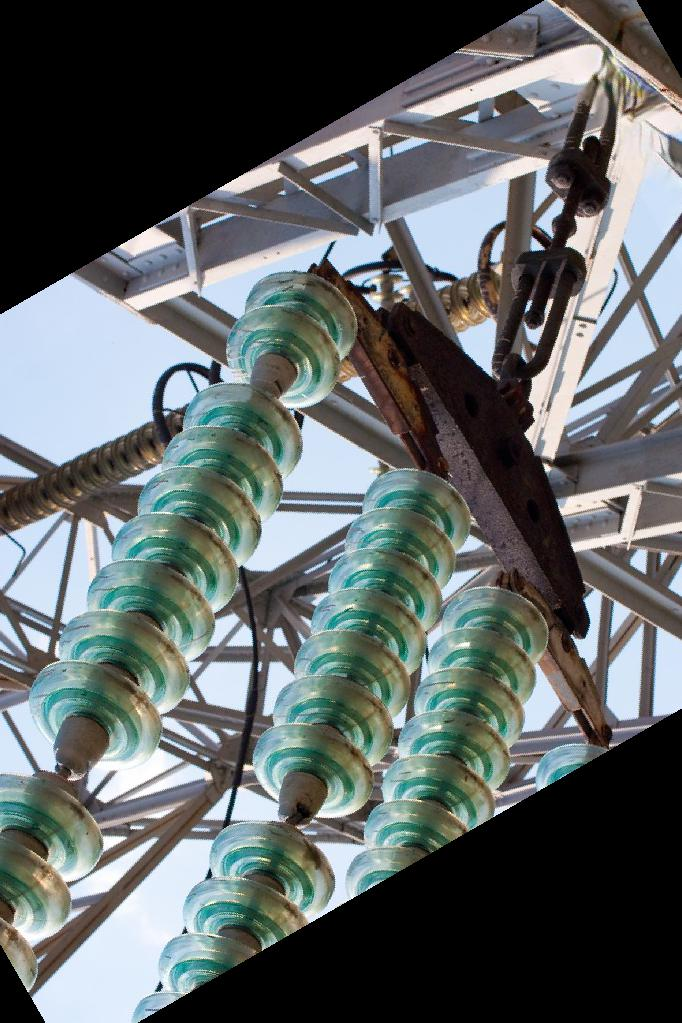insulator: (1, 264, 369, 994), (124, 464, 481, 1023), (340, 580, 556, 914), (1, 406, 189, 547), (433, 256, 519, 330)
insulator_stringdrop: (1, 657, 168, 883), (200, 714, 378, 920), (179, 302, 349, 480)
